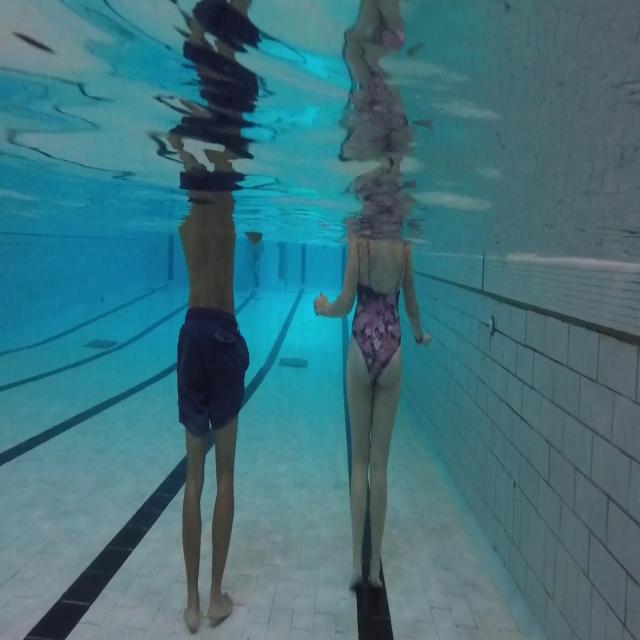human: (146, 1, 304, 634), (312, 172, 432, 592)
